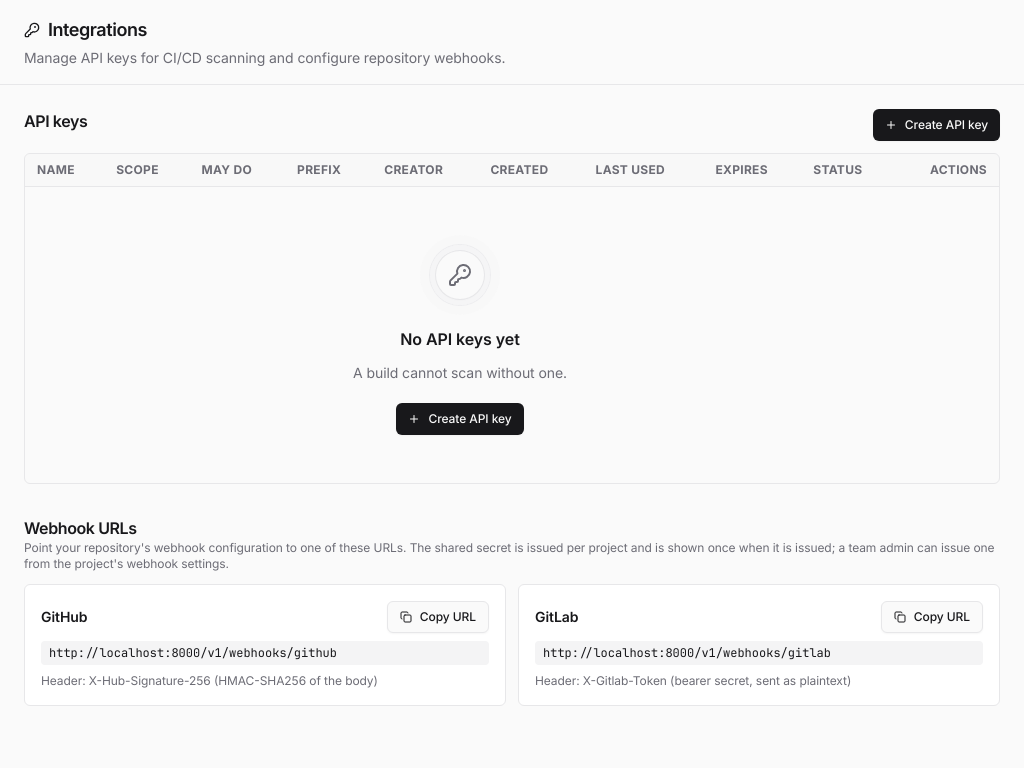
Test: IntegrationsPage › opens the create dialog and reveals the raw key on success
This screenshot has width=1024, height=768.
Expected: the message "No API keys yet A build cannot scan without one. Create API key" is shown, top-left (353, 235), bottom-right (567, 435)
Click the button with test id "integrations-create-key": (936, 125) top-left (873, 109), bottom-right (1000, 141)
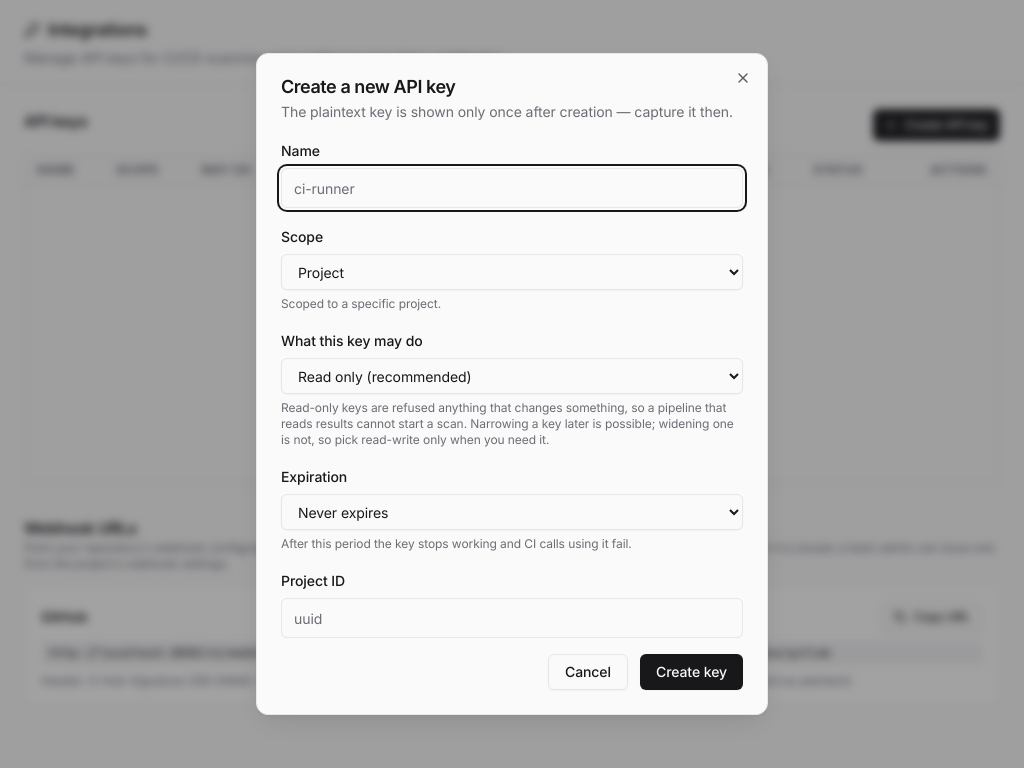
Result: the dialog with test id "integrations-create-dialog" is shown at top-left (256, 53), bottom-right (768, 715)
In the field with test id "integrations-create-name": (512, 188) top-left (281, 168), bottom-right (743, 208), type "release-bot"
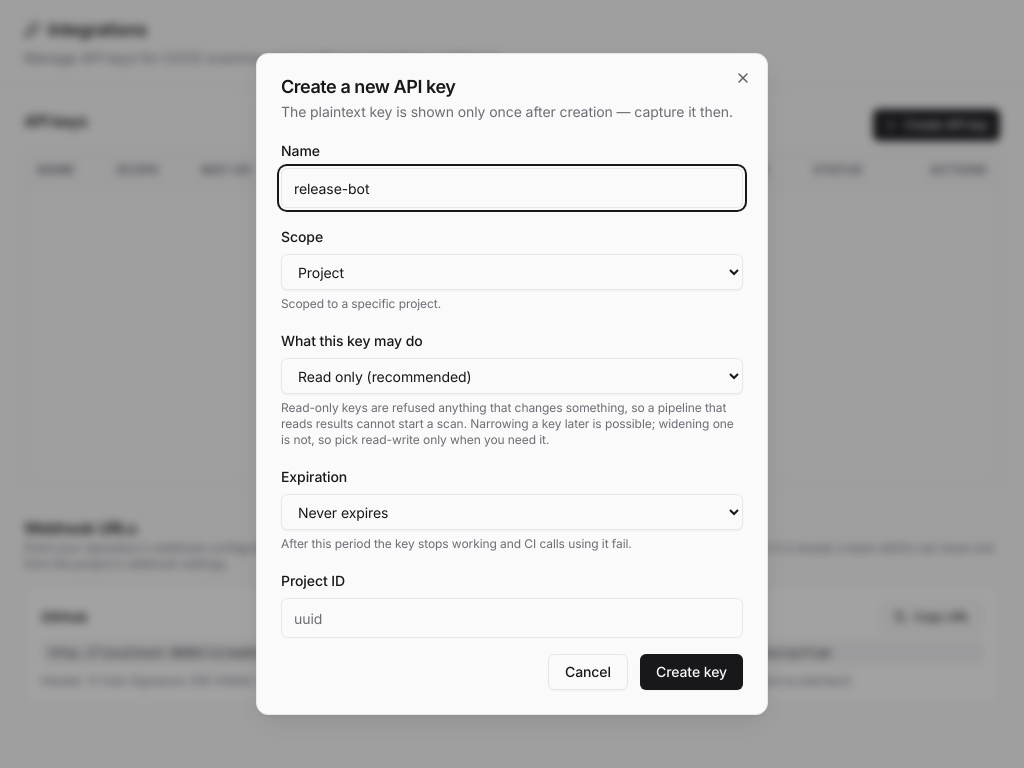
Note: Default scope is "project" — supply a project id.
In the field with test id "integrations-create-project-id": (512, 618) top-left (281, 598), bottom-right (743, 638), type "p-1"
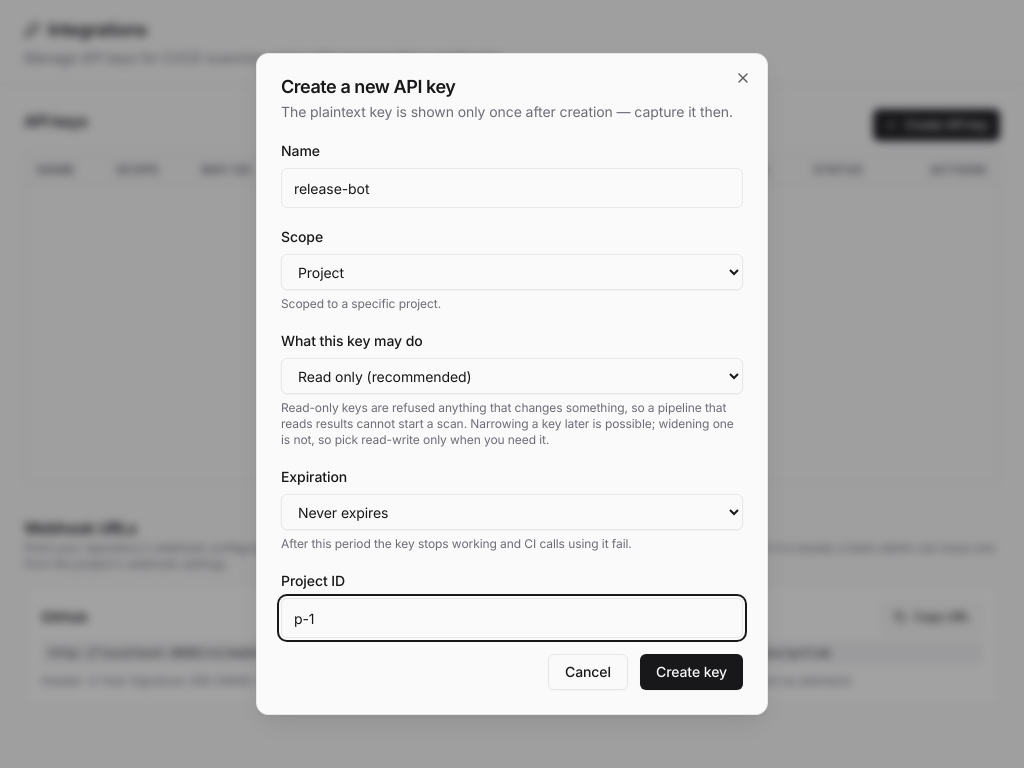
Click the button with test id "integrations-create-submit": (692, 672) top-left (640, 654), bottom-right (743, 690)
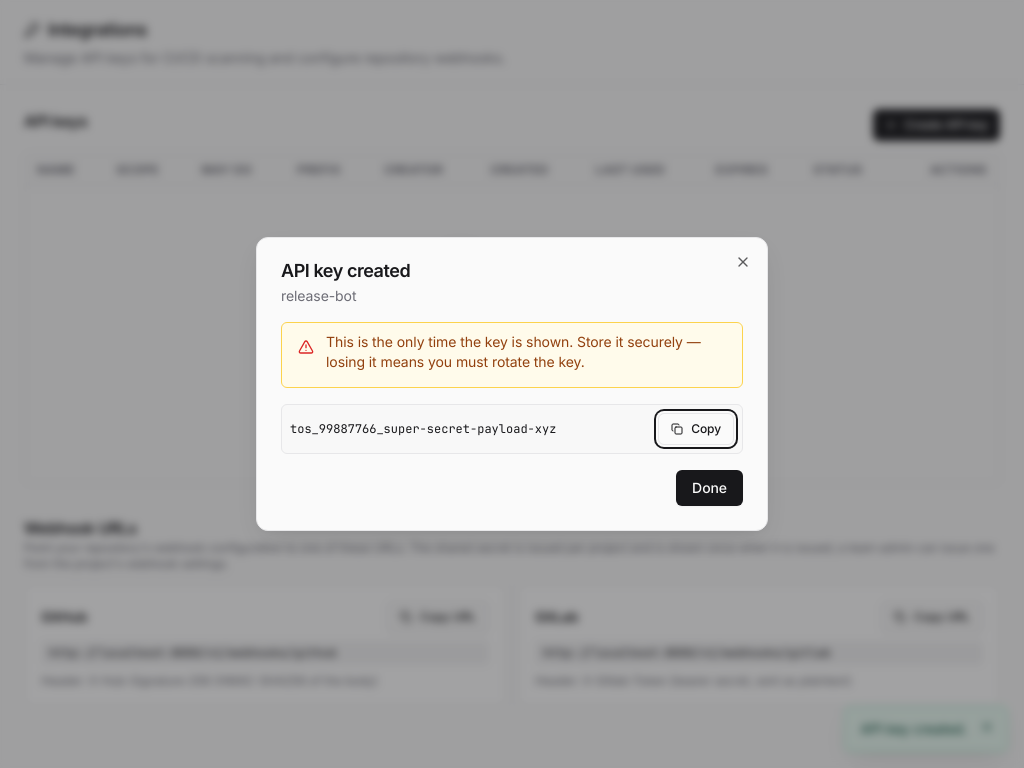
Result: the text with test id "integrations-reveal-key-value" reads "tos_99887766_super-secret-payload-xyz" at top-left (290, 421), bottom-right (556, 437)
Result: the button with test id "integrations-reveal-copy" is shown at top-left (658, 413), bottom-right (734, 445)
